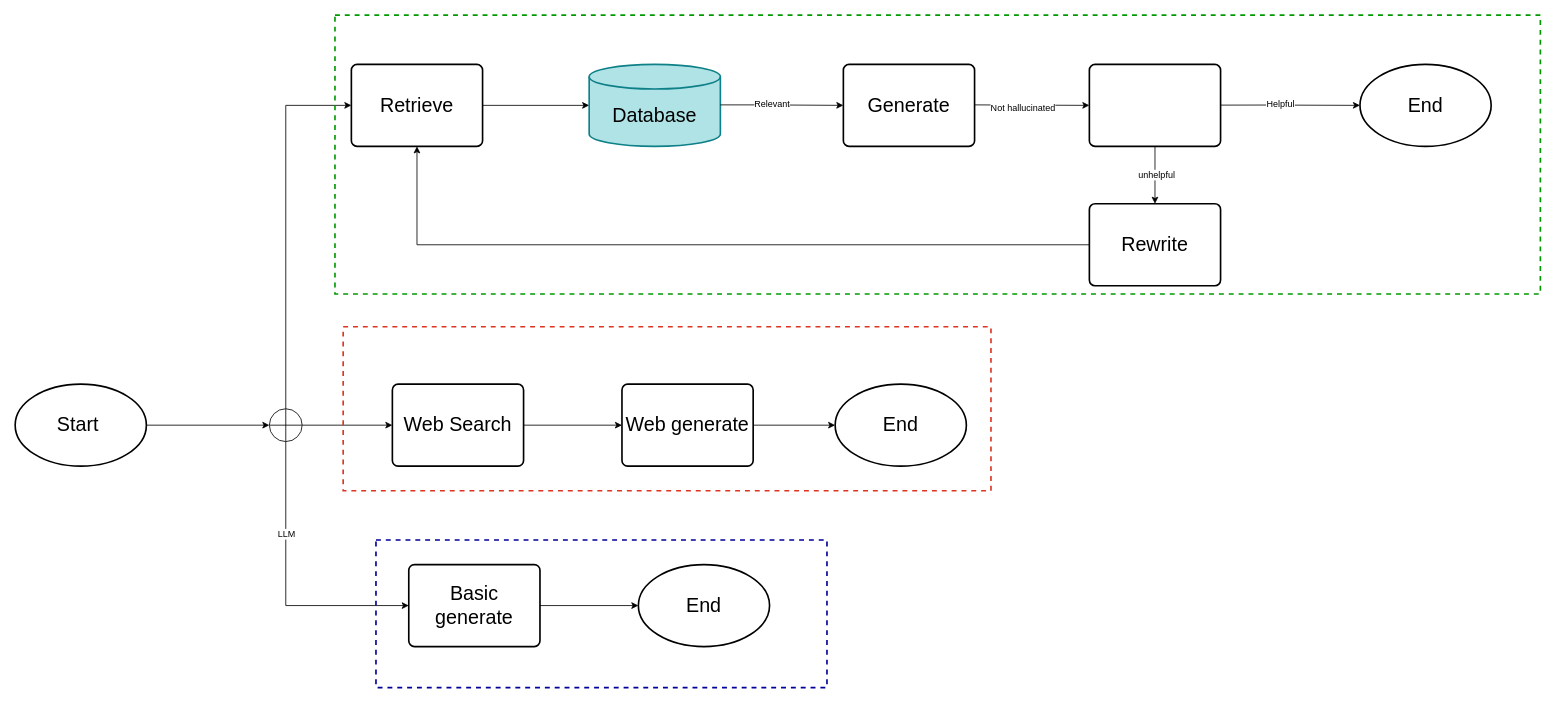
The diagram is 1555 pixels wide and 702 high, and some of its shapes have lost their labels. The box of each missing label's shape, as (x1, y1, x2, y2) in pixels:
Check helpfullness: (1088, 63, 1221, 147)
LLM results: (375, 539, 827, 688)
RAG+Self-reflection: (334, 14, 1541, 294)
ROUTER: (269, 408, 302, 442)
Website results: (342, 326, 991, 491)
